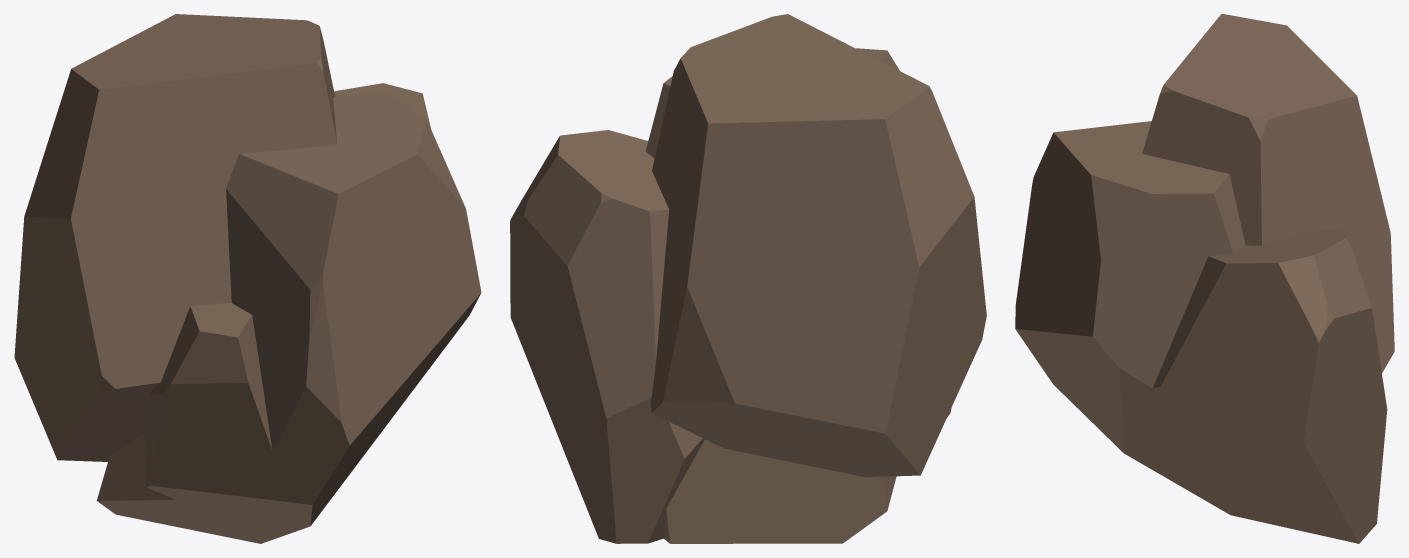
Rendered from ForestRockCluster1.fbx.
3 renders of one model, left to right at view 1: azimuth 30°, elevation 25°; view 2: azimuth 150°, elevation 25°; view 3: azimuth 270°, elevation 25°, orthographic. The views are drawn at different scales.
Visible parts, largest first — view 1: ForestRockCluster1; view 2: ForestRockCluster1; view 3: ForestRockCluster1.
Part boxes in pixels (x1=…): ForestRockCluster1: x1=14, y1=14, x2=481, y2=543; ForestRockCluster1: x1=510, y1=14, x2=986, y2=543; ForestRockCluster1: x1=1015, y1=14, x2=1394, y2=543.
Size of the model in its own units: 450 by 504 by 397.
